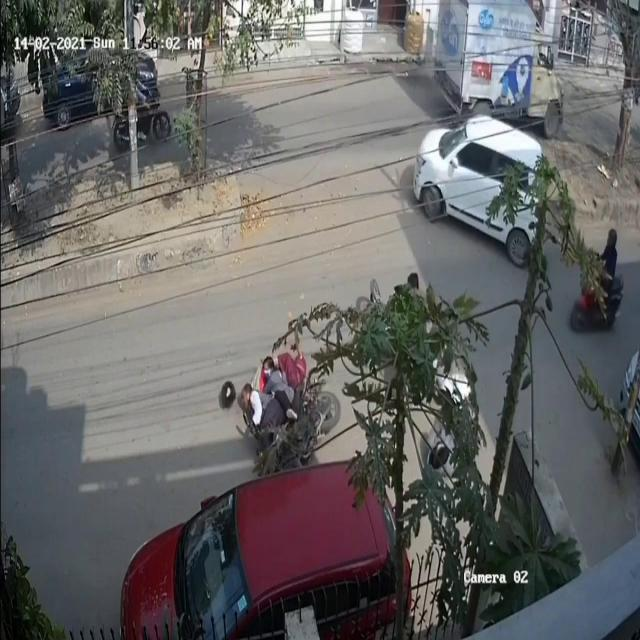accident: (210, 311, 344, 485)
